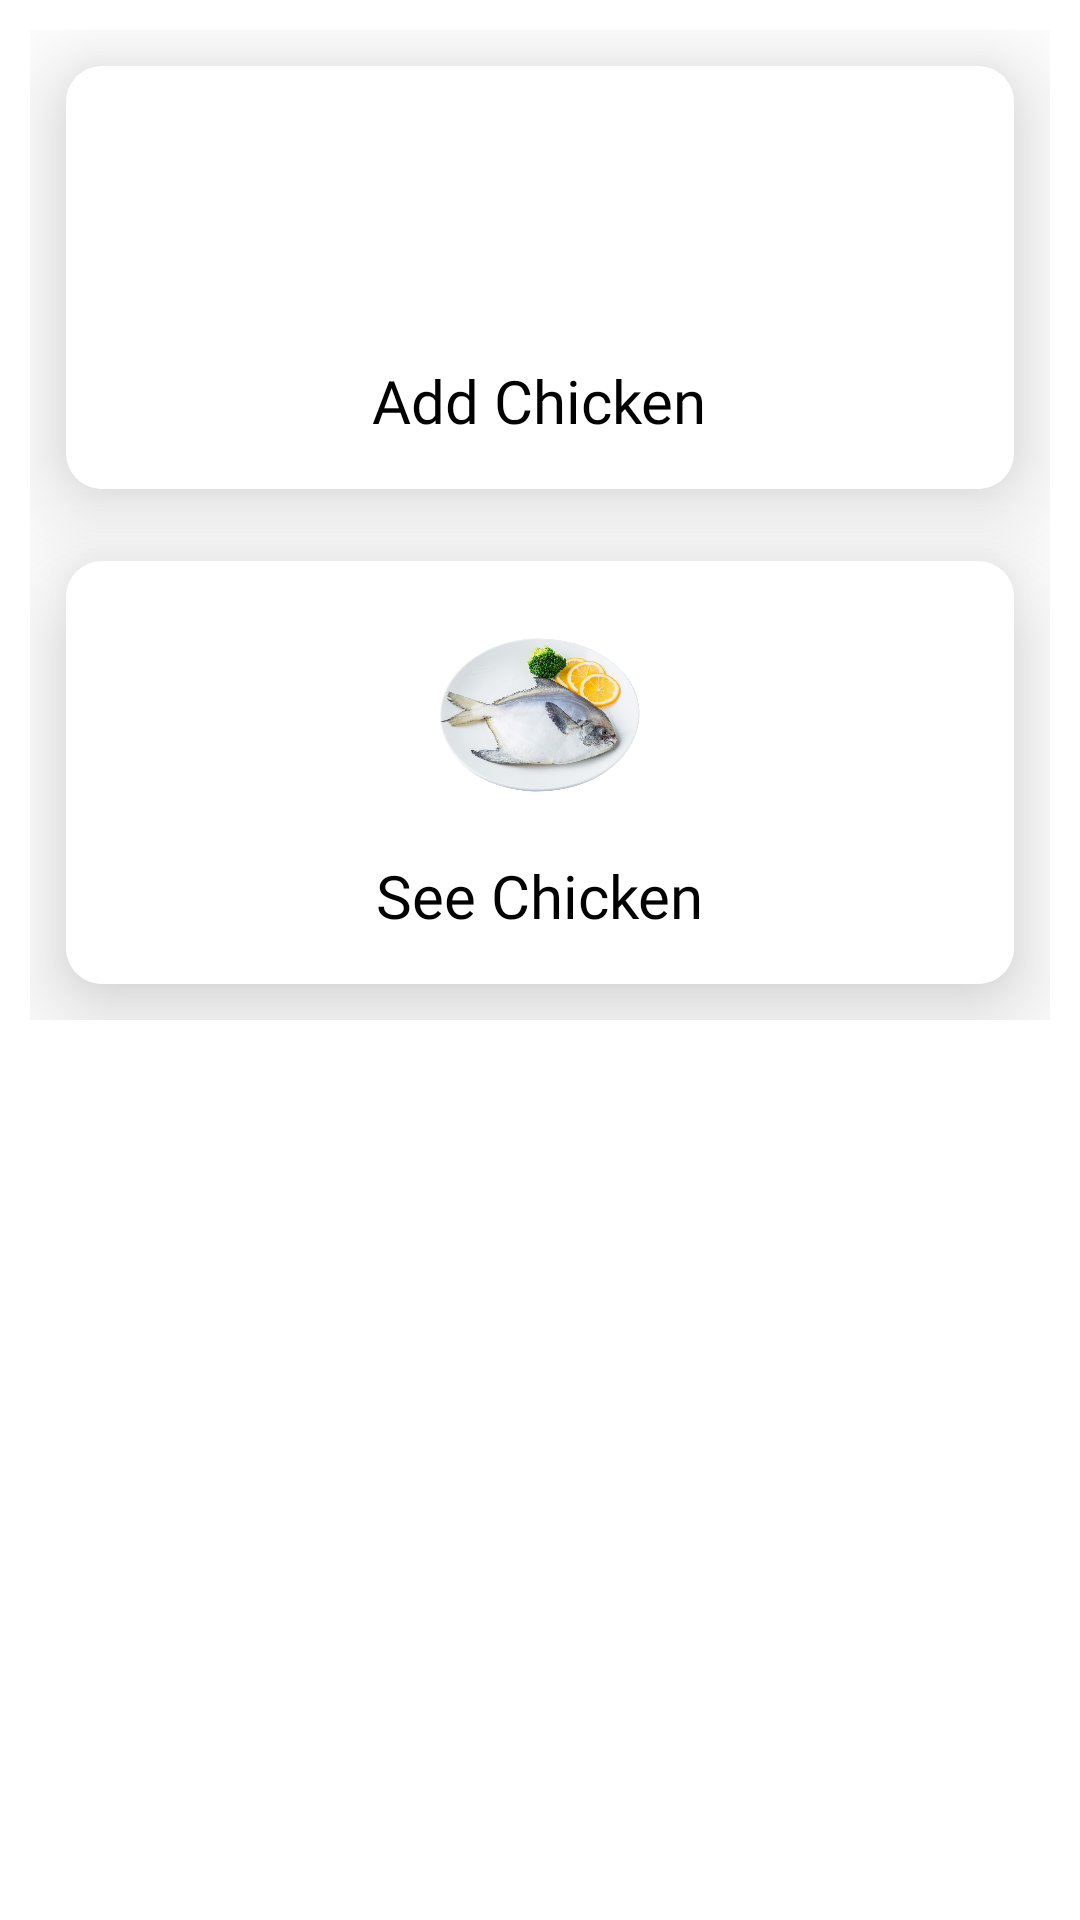

Screen size 1080 x 1920. Icon name, then its box in pixels as (x1, y1, x2, y2):
fish: (440, 640, 639, 792)
